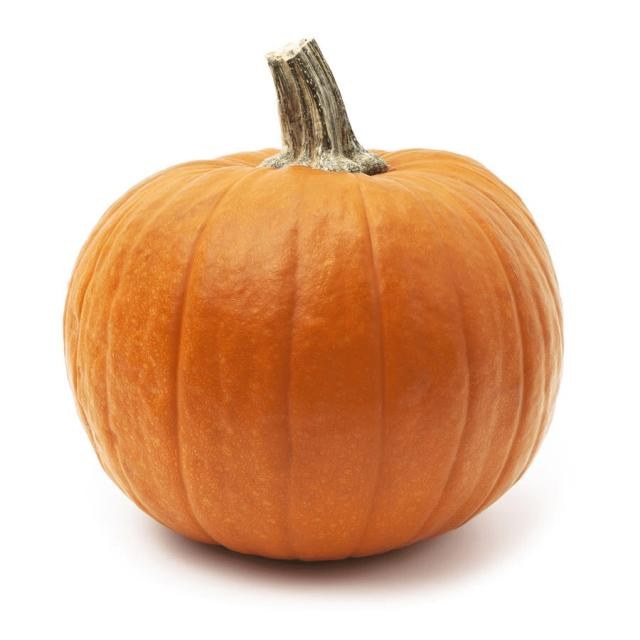pumpkin: (64, 40, 562, 559)
